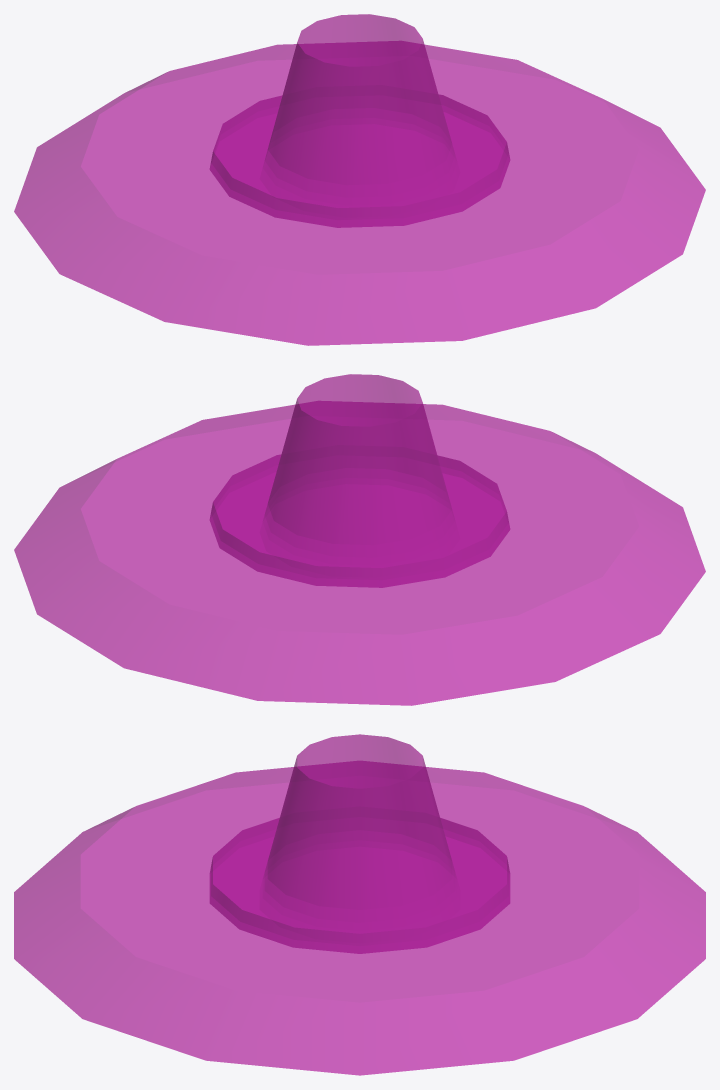
File: SM_Prop_Swinging_Chairs_01_Collision.fbx
3 views of the same model, one above another, from view 1: azimuth 30°, elevation 25°; view 2: azimuth 150°, elevation 25°; view 3: azimuth 270°, elevation 25° (orthographic). The views are drawn at different scales.
Parts seen in each view (by area): view 1: SM_Prop_Swinging_Chairs_01_Collision; view 2: SM_Prop_Swinging_Chairs_01_Collision; view 3: SM_Prop_Swinging_Chairs_01_Collision.
Part boxes in pixels (bbox=[...]): SM_Prop_Swinging_Chairs_01_Collision: bbox=[14, 14, 705, 345]; SM_Prop_Swinging_Chairs_01_Collision: bbox=[14, 374, 705, 705]; SM_Prop_Swinging_Chairs_01_Collision: bbox=[14, 734, 705, 1075].
Bounding box in the file's own units: 1339 × 341 × 1305.
